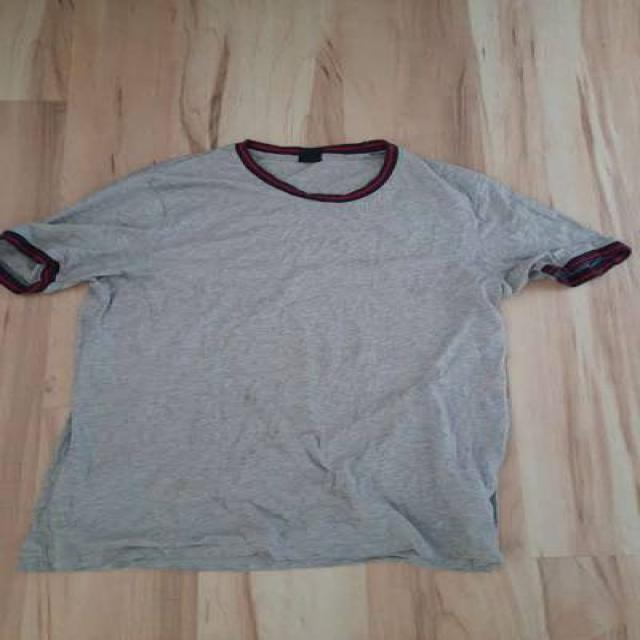shirt: (0, 137, 633, 574)
